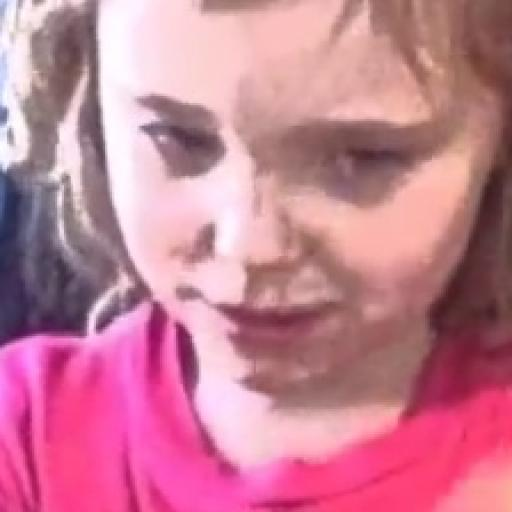Autism: (61, 0, 512, 489)
